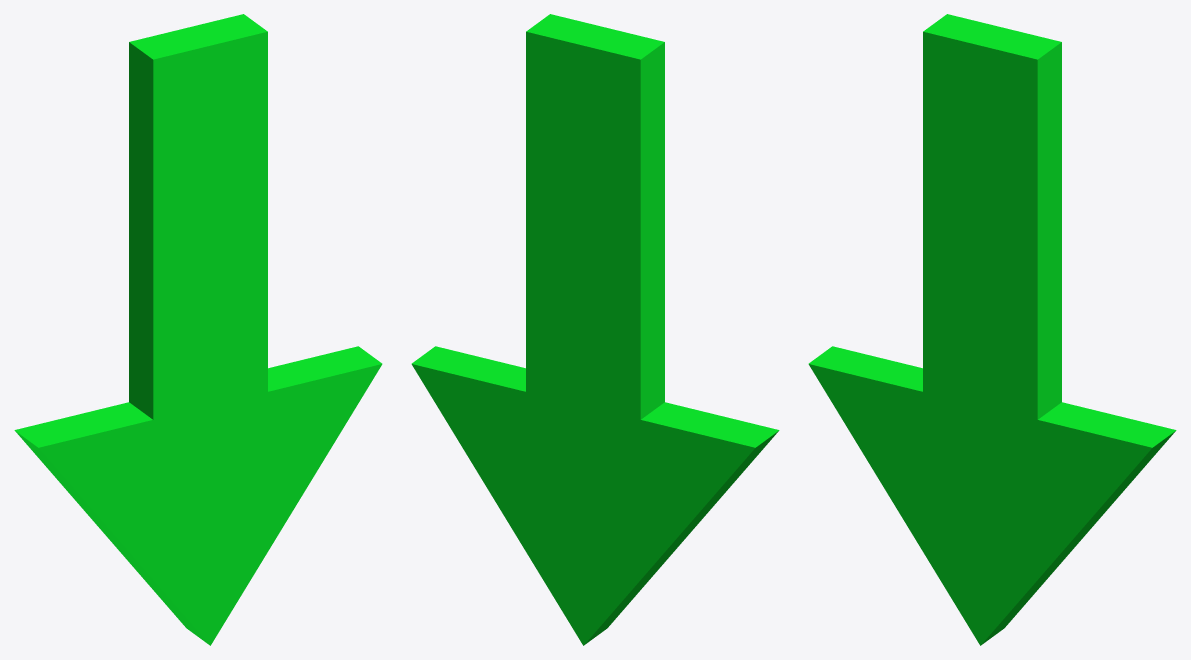
File: arrow.obj
The picture shows the model from 3 angles, left to right: view 1: azimuth 30°, elevation 25°; view 2: azimuth 150°, elevation 25°; view 3: azimuth 330°, elevation 25°; orthographic projection.
Visible parts, largest first — view 1: 565db7d80721c67fd4000001; view 2: 565db7d80721c67fd4000001; view 3: 565db7d80721c67fd4000001.
Boxes of the visible parts, x1=… form: 565db7d80721c67fd4000001: x1=14, y1=14, x2=382, y2=645; 565db7d80721c67fd4000001: x1=411, y1=14, x2=779, y2=645; 565db7d80721c67fd4000001: x1=808, y1=14, x2=1176, y2=645.
Bounding box in the file's own units: 41.16 × 68.61 × 5.
